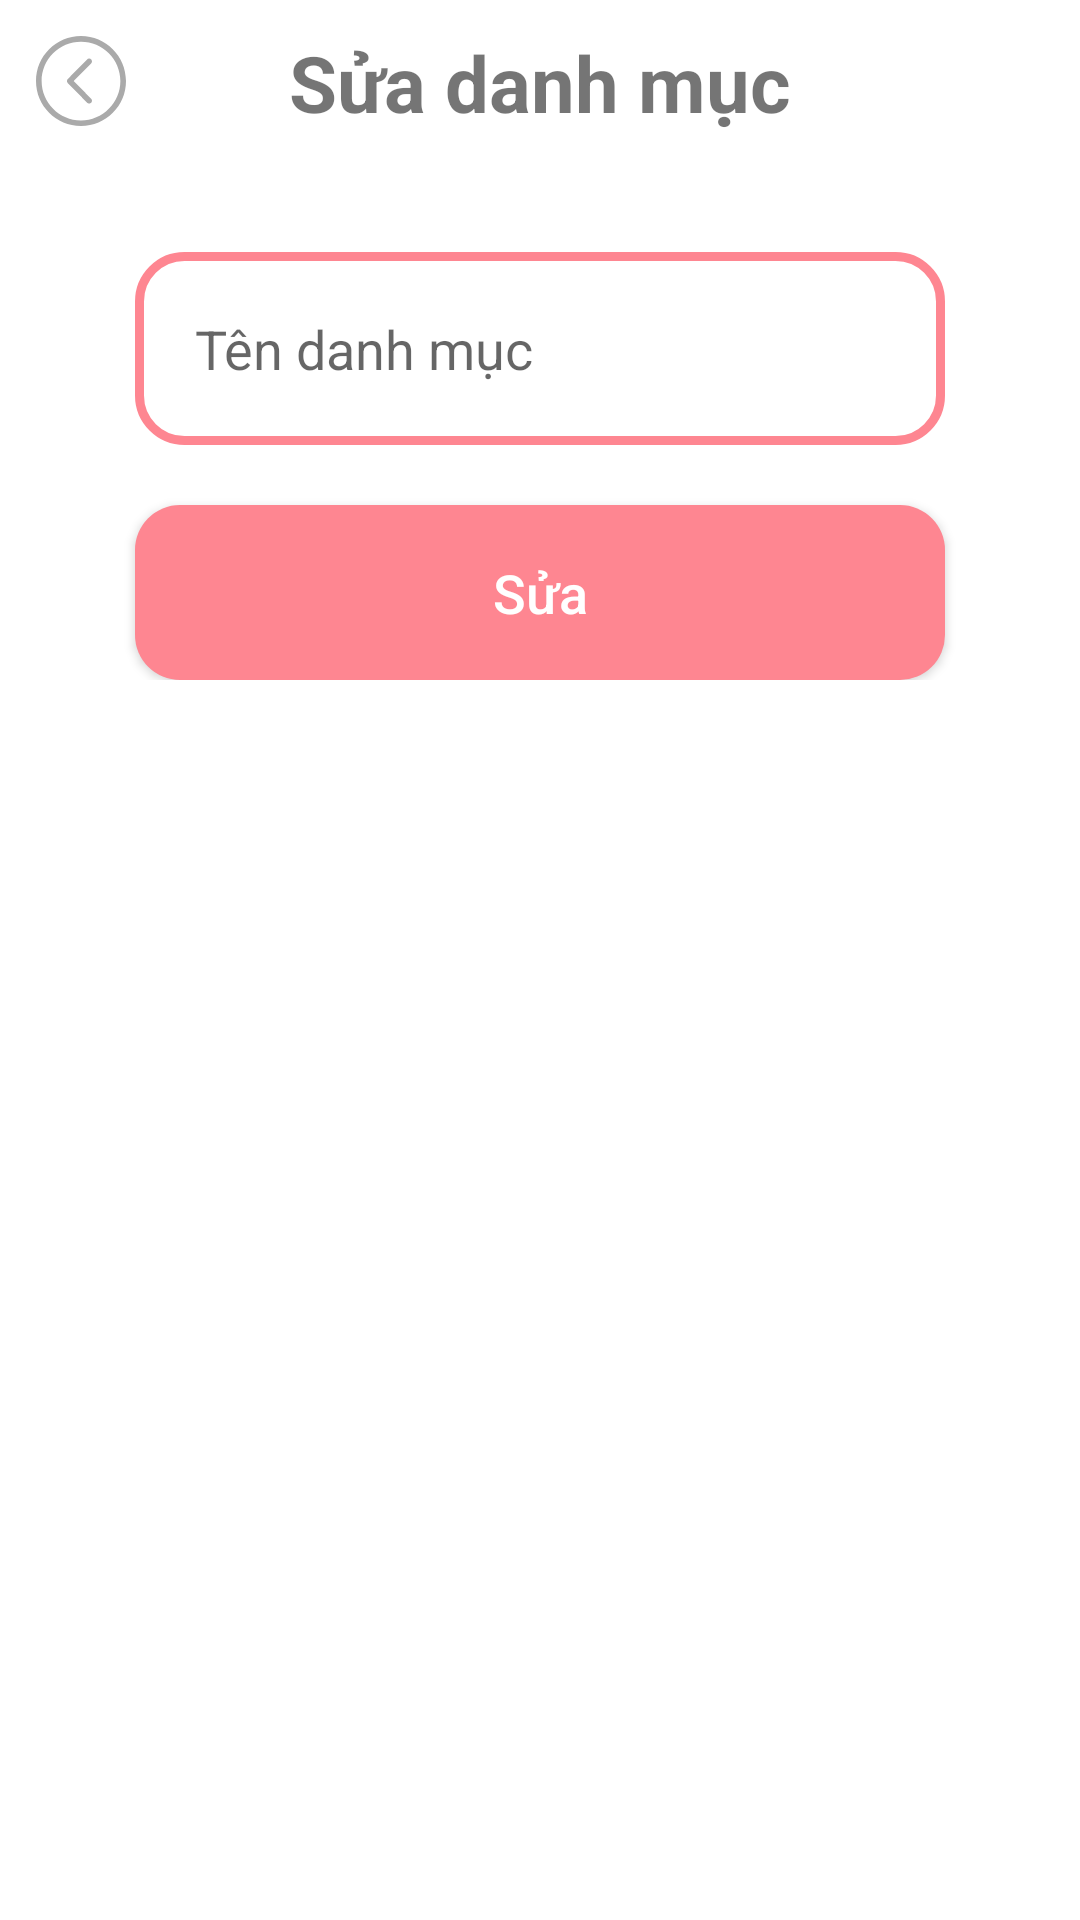

Icons on this 1080px x 1920px Android screen, each with its box as (x1, y1, x2, y2):
back: (36, 36, 126, 126)
